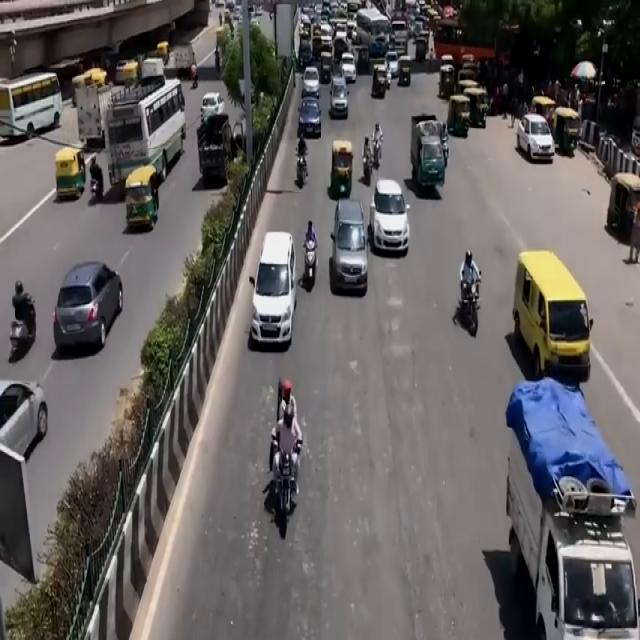BUS: (515, 247, 595, 383), (107, 81, 186, 195), (0, 70, 63, 140), (354, 9, 389, 57)
MOTORCYCLE: (275, 450, 299, 541), (465, 276, 485, 338), (306, 242, 318, 294)
TRUCK: (509, 382, 640, 640), (252, 233, 298, 353)
